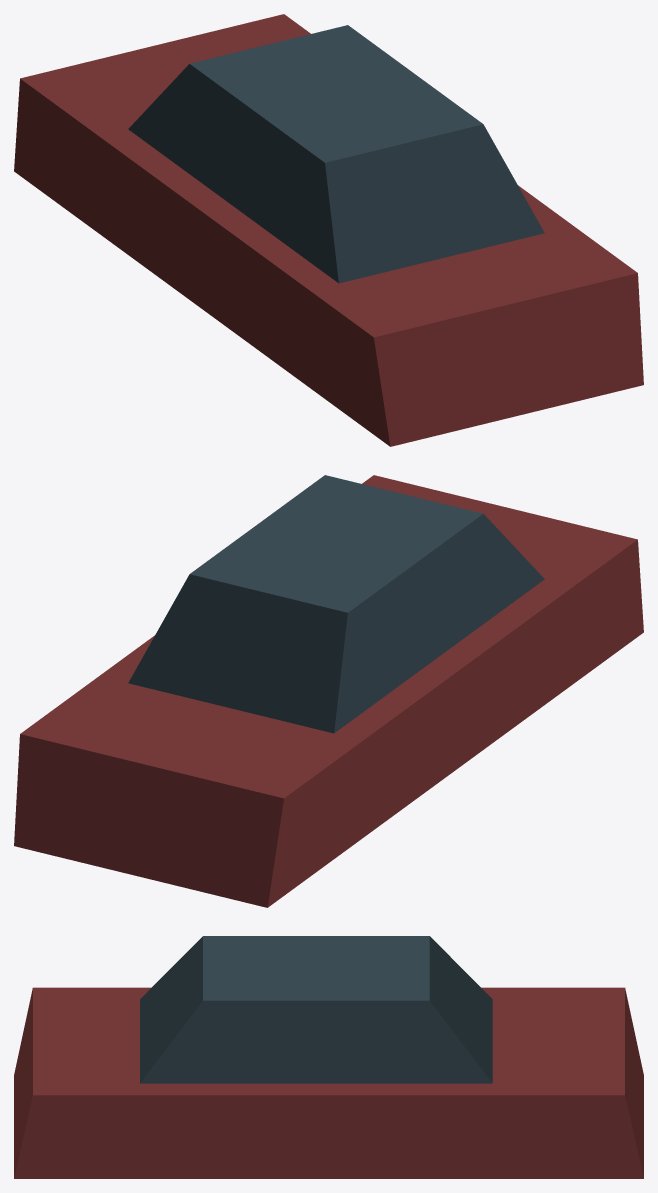
Rendered from toyota_chaser_v_lod3.glb.
3 views of the same model, one above another, from view 1: azimuth 30°, elevation 25°; view 2: azimuth 150°, elevation 25°; view 3: azimuth 270°, elevation 25° (orthographic). The views are drawn at different scales.
Visible parts, largest first — view 1: BodyLower, Cabin; view 2: BodyLower, Cabin; view 3: BodyLower, Cabin.
Part boxes in pixels (left/top/right/bottom): BodyLower: left=14, top=14, right=643, bottom=446; Cabin: left=128, top=25, right=544, bottom=283; BodyLower: left=14, top=475, right=643, bottom=907; Cabin: left=128, top=475, right=544, bottom=733; BodyLower: left=14, top=987, right=643, bottom=1178; Cabin: left=140, top=936, right=492, bottom=1083.
Bounding box in the file's own units: 1.96 × 1.34 × 4.83.
